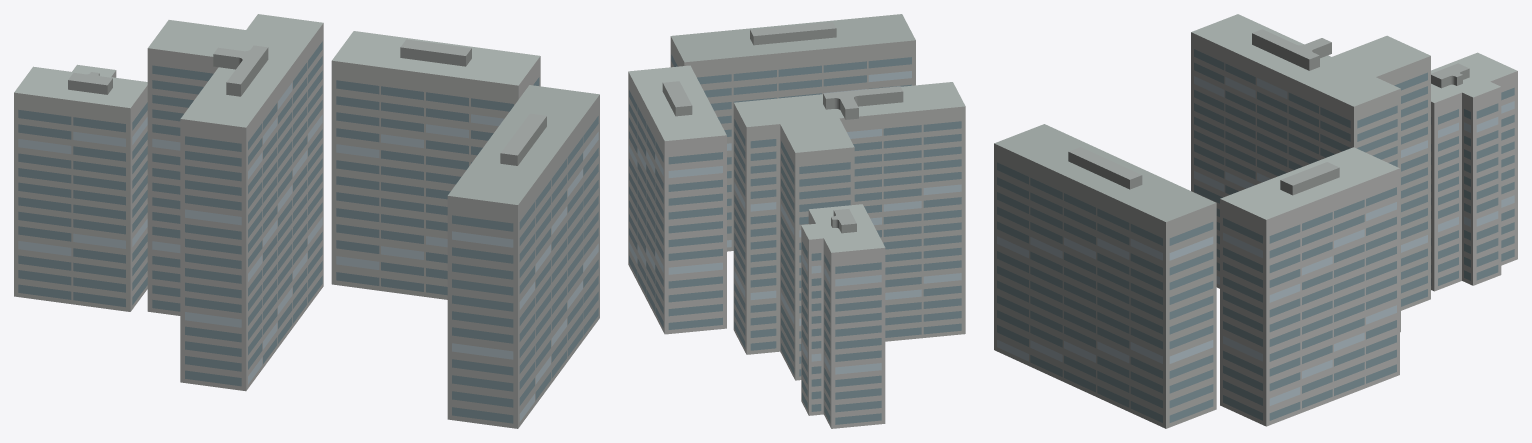
The model's file is apt-a15095002.glb.
3 views of the same model, side by side, from view 1: azimuth 30°, elevation 25°; view 2: azimuth 150°, elevation 25°; view 3: azimuth 270°, elevation 25° (orthographic). The views are drawn at different scales.
Visible parts, largest first — view 1: apt-a15095002; view 2: apt-a15095002; view 3: apt-a15095002.
Part boxes in pixels (box(x1,y1,x2,y2)): apt-a15095002: box(14, 14, 599, 428); apt-a15095002: box(628, 14, 965, 428); apt-a15095002: box(994, 14, 1517, 428).
Bounding box in the file's own units: 83.86 × 53 × 98.68.
